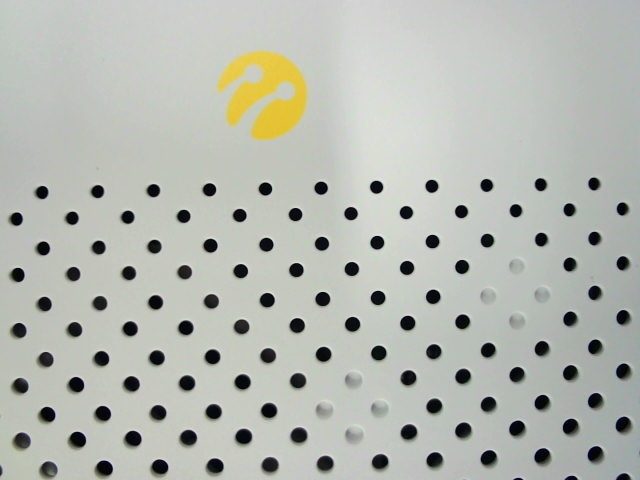AV_H3600Yellow: (206, 48, 316, 151)
